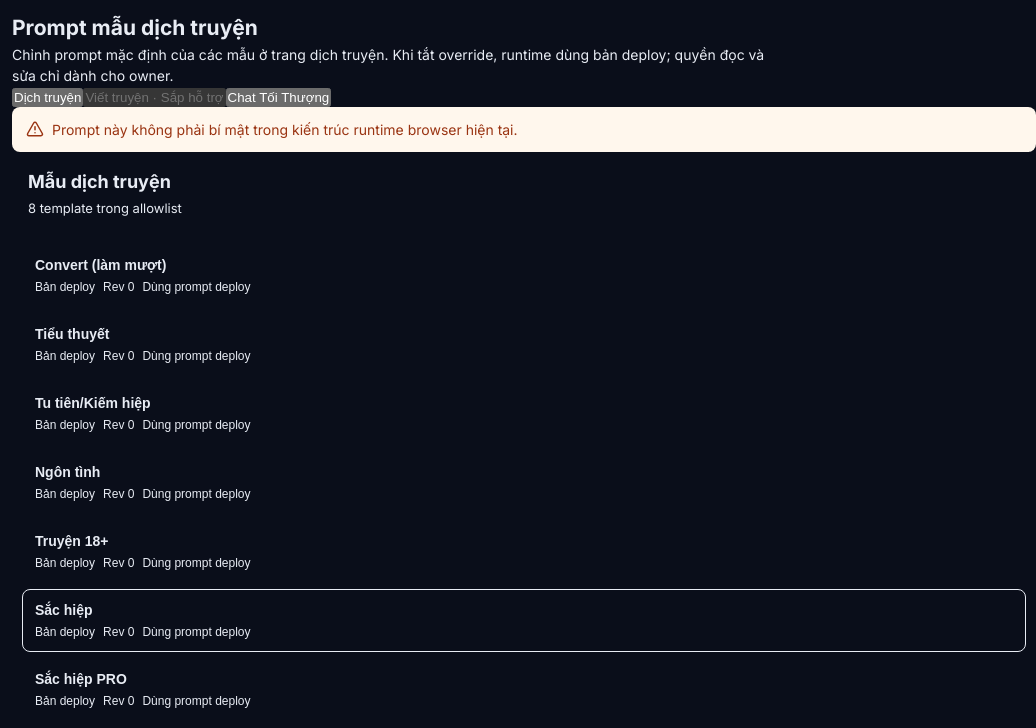
Test: Supreme Admin dirty-state navigation › disables publish when the current draft is already published
What coordinates should you click on to do the following:
click the button "Chat Tối Thượng"
I would click on:
 (278, 97)
Its box is [226,88,331,106].
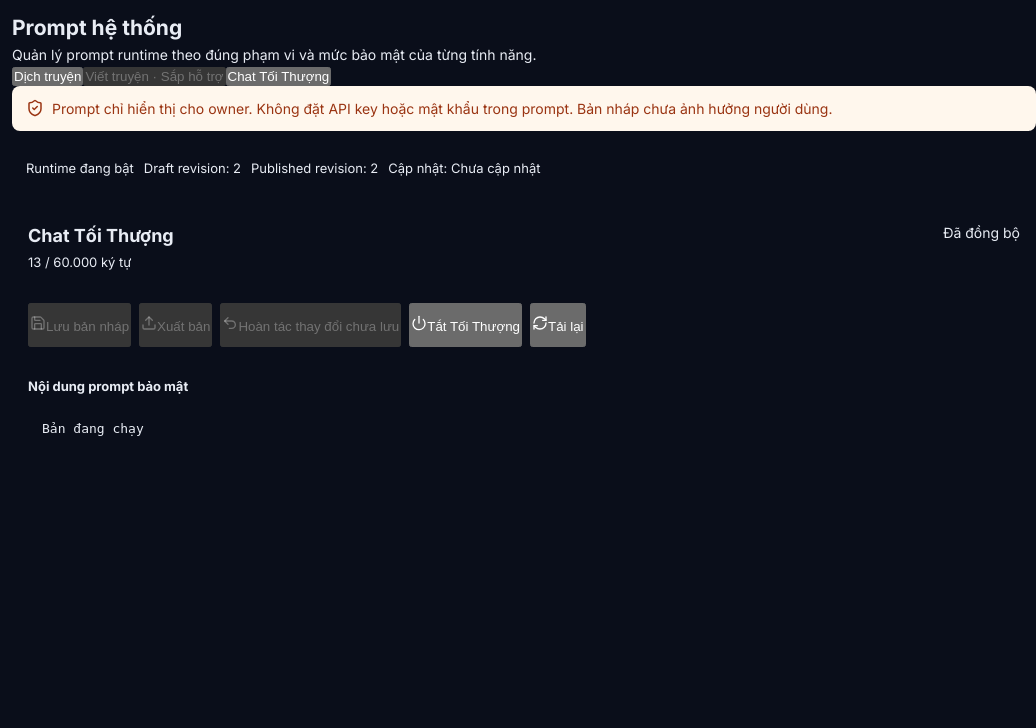
expect the button "Xuất bản" is disabled: met, box [139,302,212,346]
